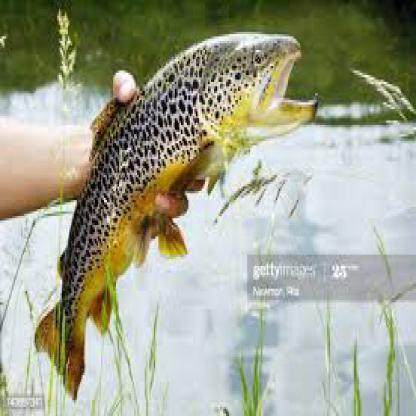fish: (32, 30, 308, 391)
